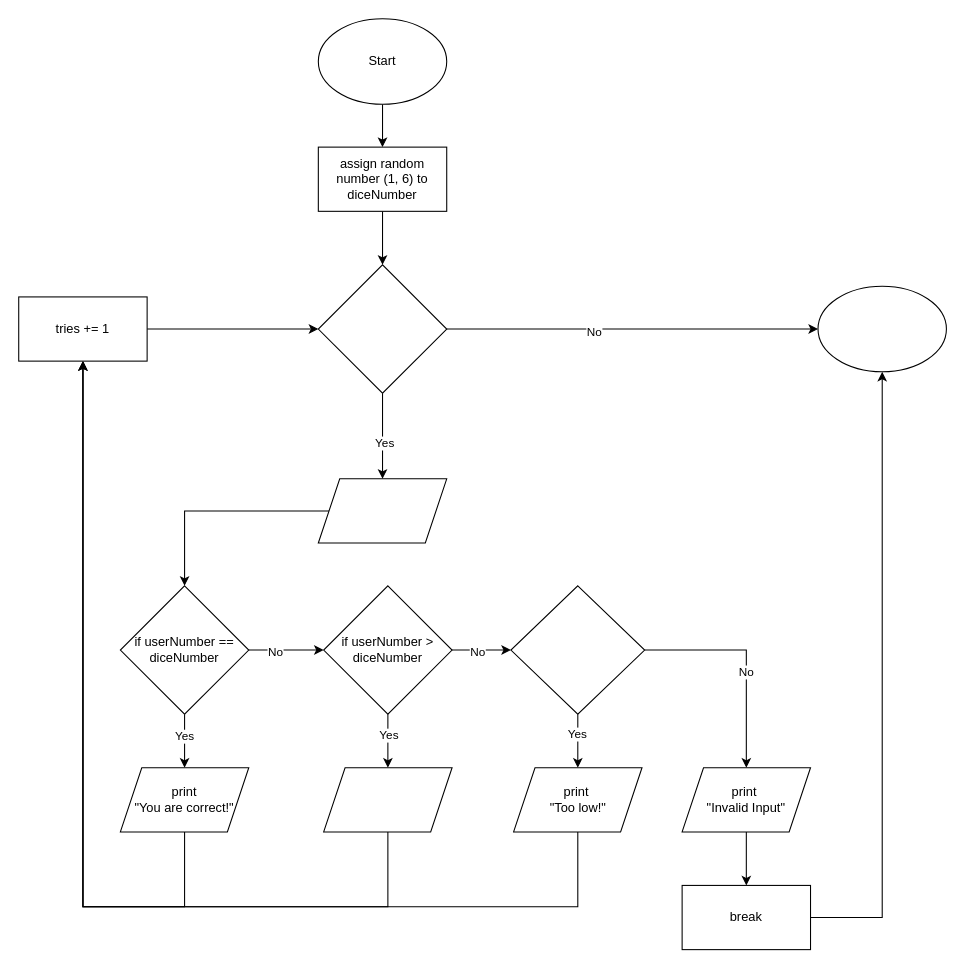
Some shapes in this 965 by 968 pixel diagram are drawn without their labels. The shapes that lost their labels are listed below. From the top down, each one's centre as x and y in pixels, then its label:
(382,328): while userNumber != diceNumber
(881,328): Stop
(382,510): input userNumber
(577,649): if userNumber < diceNumber
(387,799): print "Too high!"
